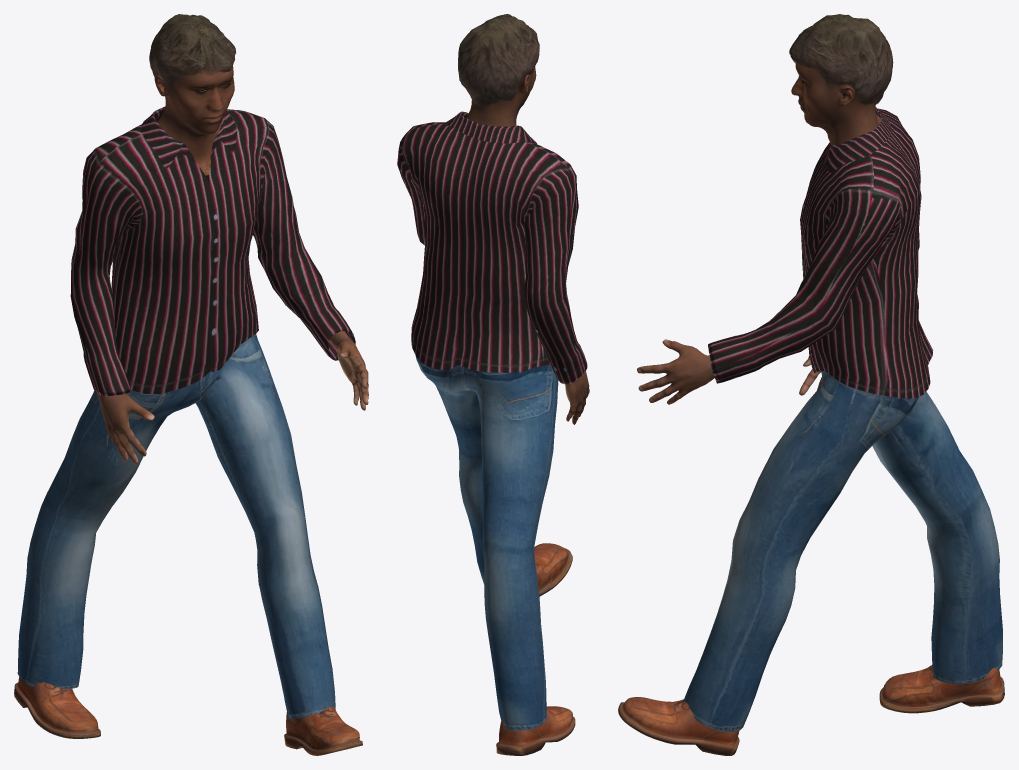
Rendered from uomo-02.glb.
3 views of the same model, side by side, from view 1: azimuth 30°, elevation 25°; view 2: azimuth 150°, elevation 25°; view 3: azimuth 270°, elevation 25° (orthographic). The views are drawn at different scales.
Parts seen in each view (by area): view 1: Human.male_casualsuit03, Human, Human.shoes01, Human.short02; view 2: Human.male_casualsuit03, Human.short02, Human.shoes01, Human; view 3: Human.male_casualsuit03, Human.shoes01, Human, Human.short02.
Boxes of the visible parts, bbox=[...] form: Human.male_casualsuit03: bbox=[17, 106, 355, 718]; Human: bbox=[98, 66, 368, 464]; Human.shoes01: bbox=[14, 677, 362, 755]; Human.short02: bbox=[149, 14, 236, 90]; Human.male_casualsuit03: bbox=[397, 111, 587, 730]; Human.short02: bbox=[458, 14, 539, 106]; Human.shoes01: bbox=[496, 543, 575, 755]; Human: bbox=[466, 66, 589, 424]; Human.male_casualsuit03: bbox=[684, 107, 1002, 731]; Human.shoes01: bbox=[618, 665, 1004, 755]; Human: bbox=[637, 62, 881, 404]; Human.short02: bbox=[789, 14, 893, 105].
Size of the model in its own units: 0.5609 by 1.81 by 0.8687.
Materials: 12 (12 with a texture image).
